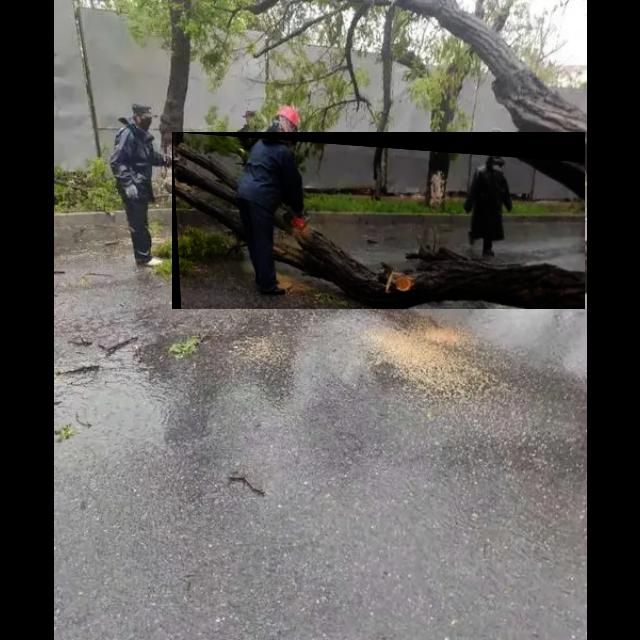Fallen Tree: (172, 132, 586, 310)
